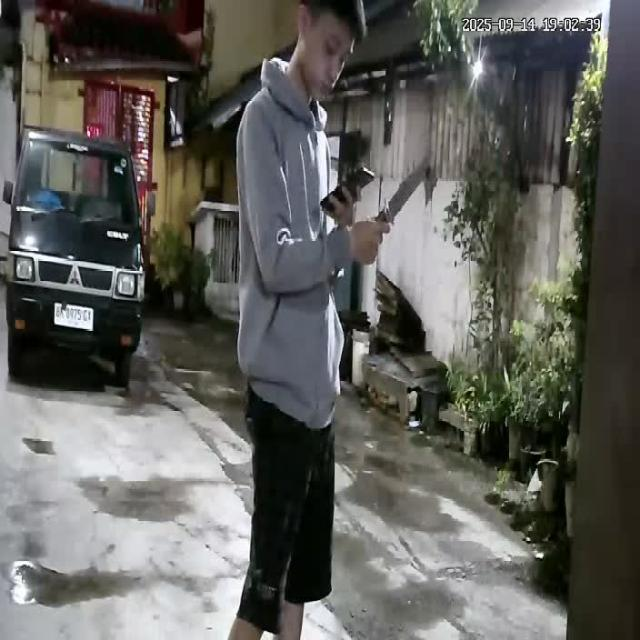senjata_tajam: (378, 150, 434, 223)
